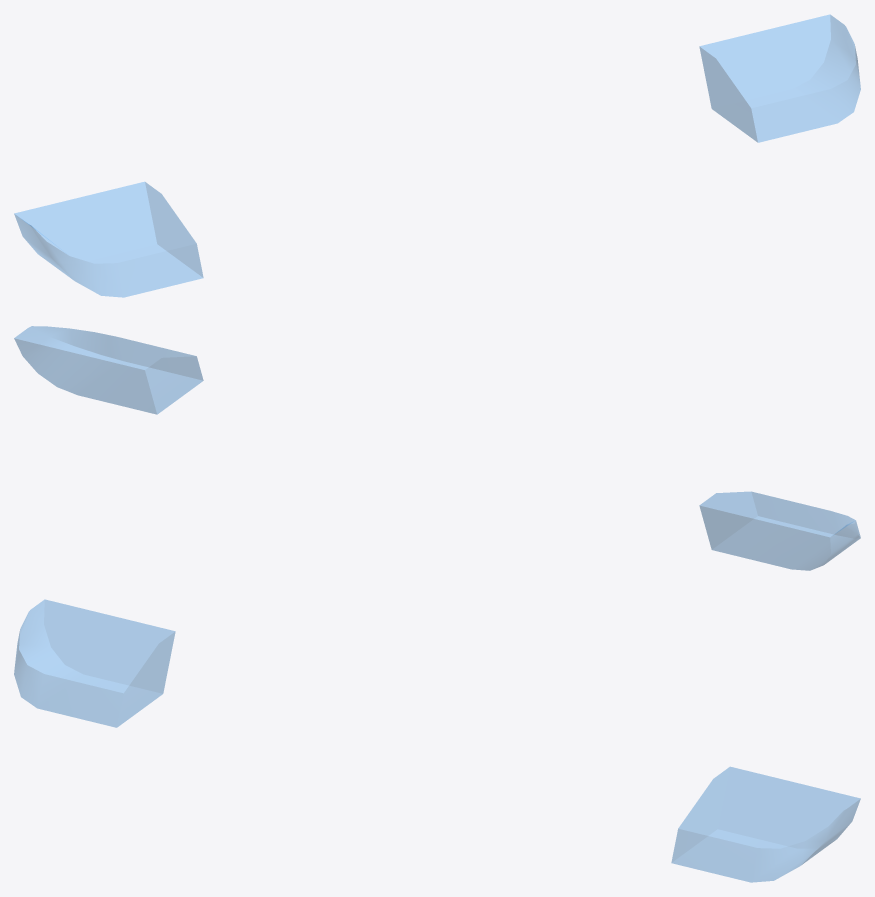
File: acc_eyeline_blue.glb
3 views of the same model, one above another, from view 1: azimuth 30°, elevation 25°; view 2: azimuth 150°, elevation 25°; view 3: azimuth 330°, elevation 25° (orthographic).
Visible parts, largest first — view 1: acc_eyeline_blue_mesh; view 2: acc_eyeline_blue_mesh; view 3: acc_eyeline_blue_mesh.
Part boxes in pixels (x1,y1,x2,y2): acc_eyeline_blue_mesh: (14, 14, 860, 297); acc_eyeline_blue_mesh: (14, 326, 860, 570); acc_eyeline_blue_mesh: (14, 599, 860, 882).
Bounding box in the file's own units: 1.78 × 0.1115 × 0.2217.
